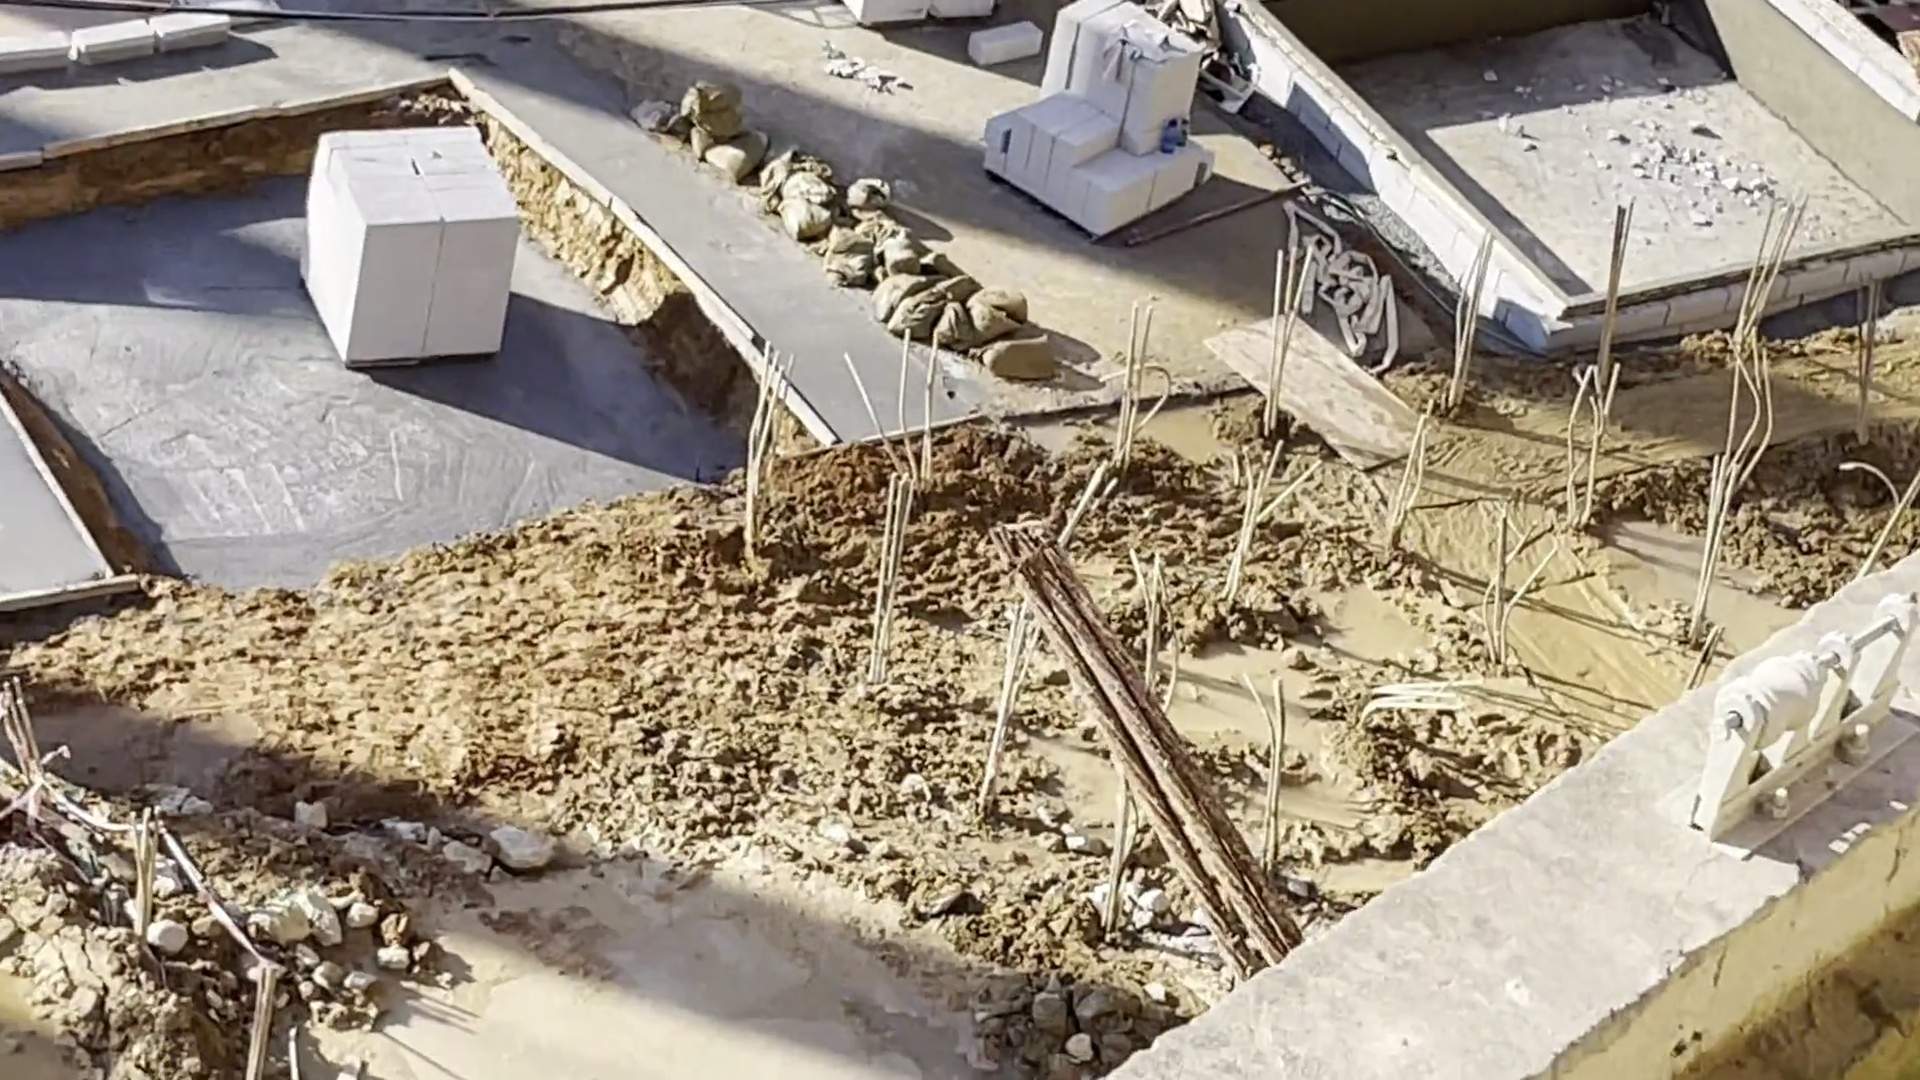brick: (291, 119, 524, 372), (980, 8, 1220, 251)
